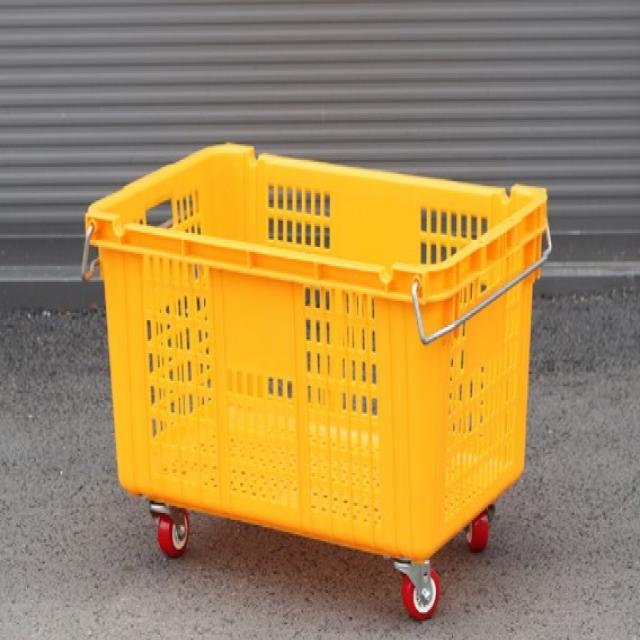basket: (36, 124, 565, 630)
